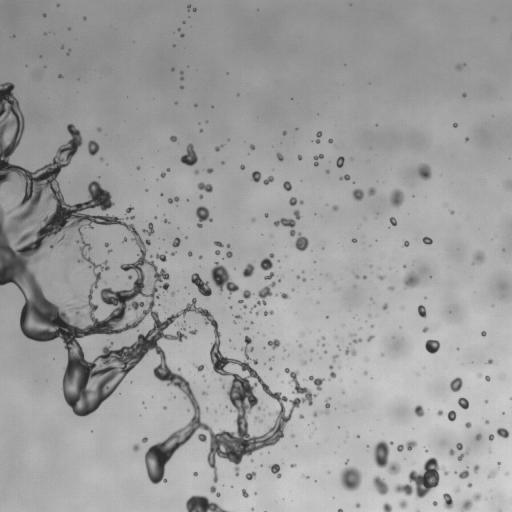droplet: (274, 210, 308, 251), (373, 440, 400, 474), (340, 460, 361, 490), (180, 144, 197, 165), (196, 206, 212, 227), (373, 475, 388, 495), (403, 271, 419, 288), (308, 375, 324, 391), (260, 253, 274, 270), (390, 189, 403, 207), (418, 164, 431, 180), (425, 339, 439, 353), (442, 493, 453, 509), (242, 263, 254, 277), (450, 377, 462, 391), (269, 464, 281, 478), (88, 140, 99, 155), (472, 251, 484, 264), (197, 182, 212, 192), (143, 222, 154, 235), (496, 427, 509, 438), (267, 339, 280, 349), (352, 189, 363, 200), (458, 397, 468, 409), (414, 405, 424, 417), (456, 469, 469, 478), (252, 171, 261, 182), (447, 410, 456, 421), (418, 305, 426, 317), (263, 176, 273, 185), (242, 290, 252, 299), (336, 156, 344, 167), (155, 253, 166, 261), (382, 502, 391, 511), (172, 237, 180, 247), (245, 472, 255, 480), (194, 364, 205, 371), (283, 181, 291, 190), (198, 433, 206, 442), (487, 470, 496, 478), (422, 237, 432, 244), (264, 272, 274, 279), (339, 174, 350, 180), (399, 500, 407, 508), (368, 187, 375, 195), (125, 206, 133, 213), (389, 217, 396, 225), (280, 293, 289, 299), (132, 444, 139, 451), (277, 153, 283, 161), (214, 241, 222, 247), (254, 416, 262, 422), (475, 433, 481, 441), (473, 465, 479, 473), (242, 489, 248, 497), (456, 443, 462, 450), (226, 251, 232, 257), (367, 335, 373, 341), (437, 409, 443, 415), (465, 422, 471, 428), (170, 136, 176, 141), (215, 146, 221, 151), (207, 168, 213, 173), (332, 205, 338, 210), (403, 241, 409, 246), (378, 275, 384, 280), (382, 303, 387, 309), (422, 326, 427, 332), (190, 329, 196, 334), (485, 375, 490, 381), (449, 449, 454, 455), (456, 64, 461, 69), (160, 172, 165, 177), (481, 331, 486, 336), (333, 355, 338, 360), (142, 437, 147, 442), (388, 286, 394, 290), (487, 359, 493, 363), (489, 434, 493, 440), (250, 144, 254, 149), (240, 164, 244, 169), (351, 238, 356, 242), (215, 250, 220, 254), (313, 412, 317, 417), (455, 487, 459, 492), (433, 501, 437, 506), (235, 315, 241, 318), (337, 508, 343, 511), (462, 93, 466, 97), (453, 123, 457, 127), (97, 127, 101, 131), (282, 131, 286, 135), (328, 139, 332, 143), (194, 170, 198, 174), (450, 210, 454, 214), (164, 219, 168, 223), (105, 243, 109, 247), (188, 252, 192, 256), (350, 333, 354, 337), (302, 360, 306, 364), (477, 373, 481, 377), (202, 391, 206, 395), (299, 414, 303, 418), (193, 472, 197, 476), (467, 483, 471, 487), (356, 503, 360, 507), (187, 5, 190, 9), (298, 155, 301, 159), (129, 216, 133, 219), (123, 238, 126, 242), (171, 252, 175, 255), (171, 292, 175, 295), (244, 327, 248, 330), (321, 336, 325, 339), (269, 357, 273, 360), (291, 464, 295, 467), (43, 13, 46, 16), (465, 137, 468, 140), (326, 170, 329, 173), (199, 195, 202, 198), (108, 249, 111, 252), (199, 256, 202, 259), (128, 275, 131, 278), (296, 275, 299, 278), (355, 275, 358, 278), (278, 278, 281, 281), (317, 341, 320, 344), (364, 371, 367, 374), (264, 214, 268, 216), (83, 17, 86, 19), (171, 68, 174, 70), (58, 75, 61, 77), (180, 77, 183, 79), (180, 86, 183, 88), (100, 158, 103, 160), (137, 166, 139, 169), (167, 168, 169, 171), (227, 244, 229, 247), (363, 276, 366, 278), (303, 278, 305, 281), (486, 420, 488, 423), (181, 34, 183, 36), (181, 71, 183, 73), (252, 219, 254, 221), (65, 243, 67, 245), (403, 265, 405, 267), (256, 312, 258, 314), (299, 344, 301, 346), (322, 344, 324, 346), (337, 346, 339, 348), (324, 351, 326, 353), (485, 400, 487, 402), (357, 435, 359, 437), (251, 459, 253, 461), (498, 462, 500, 464)
ligament: (0, 83, 317, 481), (394, 457, 448, 498), (211, 262, 239, 294), (250, 282, 275, 311), (186, 495, 228, 511), (191, 273, 211, 297), (462, 492, 481, 511), (345, 338, 362, 355), (397, 440, 416, 451), (289, 197, 303, 205), (457, 450, 468, 460), (314, 154, 323, 166), (323, 398, 330, 413), (210, 486, 220, 496), (329, 365, 336, 379), (314, 131, 321, 143), (168, 196, 179, 203), (238, 300, 246, 307), (264, 310, 273, 315), (507, 180, 511, 188), (416, 510, 419, 511), (498, 510, 501, 511)
